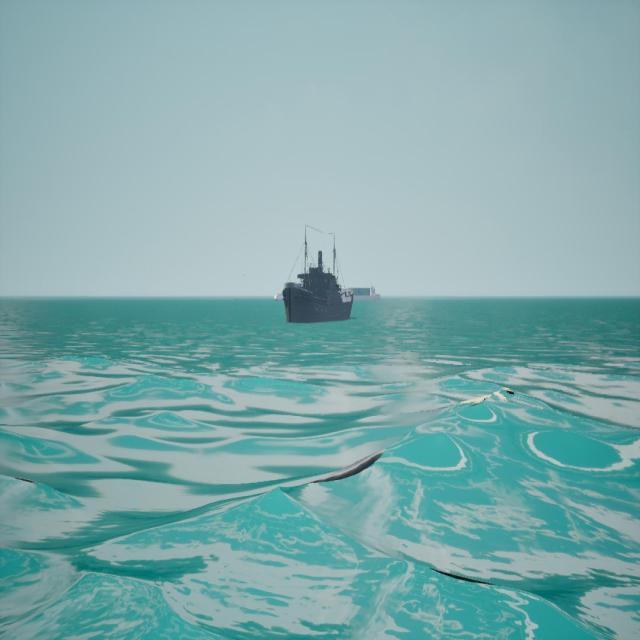fishing ship: (278, 227, 361, 324)
